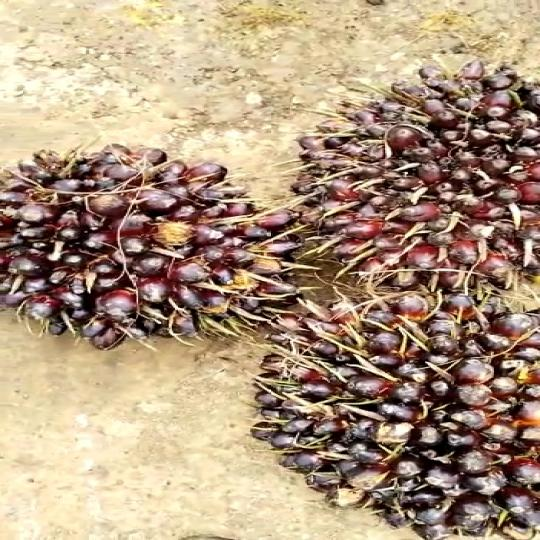mentah: (259, 275, 540, 538), (7, 134, 299, 358), (258, 66, 538, 294)
